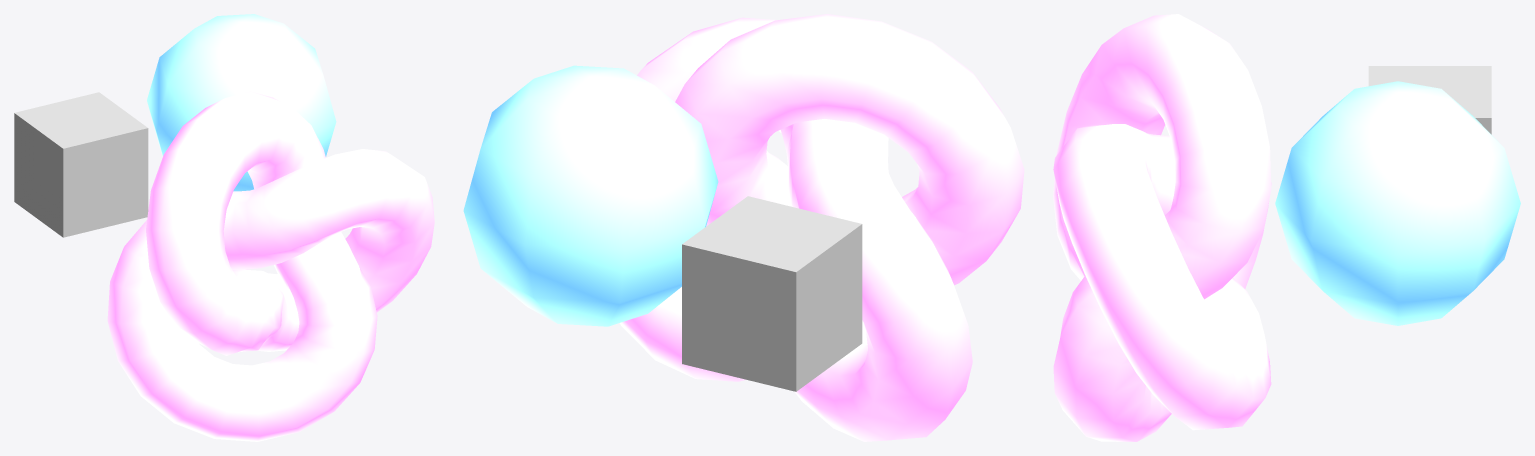
3 views of the same model, side by side, from view 1: azimuth 30°, elevation 25°; view 2: azimuth 150°, elevation 25°; view 3: azimuth 270°, elevation 25° (orthographic). The views are drawn at different scales.
Parts seen in each view (by area): view 1: TorusKnot, Box, Sphere; view 2: TorusKnot, Sphere, Box; view 3: TorusKnot, Sphere, Box.
Boxes of the visible parts, x1=… form: TorusKnot: x1=107, y1=91, x2=434, y2=441; Box: x1=14, y1=92, x2=148, y2=237; Sphere: x1=147, y1=14, x2=336, y2=191; TorusKnot: x1=620, y1=14, x2=1024, y2=441; Sphere: x1=463, y1=65, x2=718, y2=326; Box: x1=682, y1=196, x2=862, y2=391; TorusKnot: x1=1053, y1=14, x2=1271, y2=441; Sphere: x1=1275, y1=81, x2=1520, y2=325; Box: x1=1368, y1=66, x2=1491, y2=134.
Bounding box in the file's own units: 3.46 × 3.6 × 3.81.
